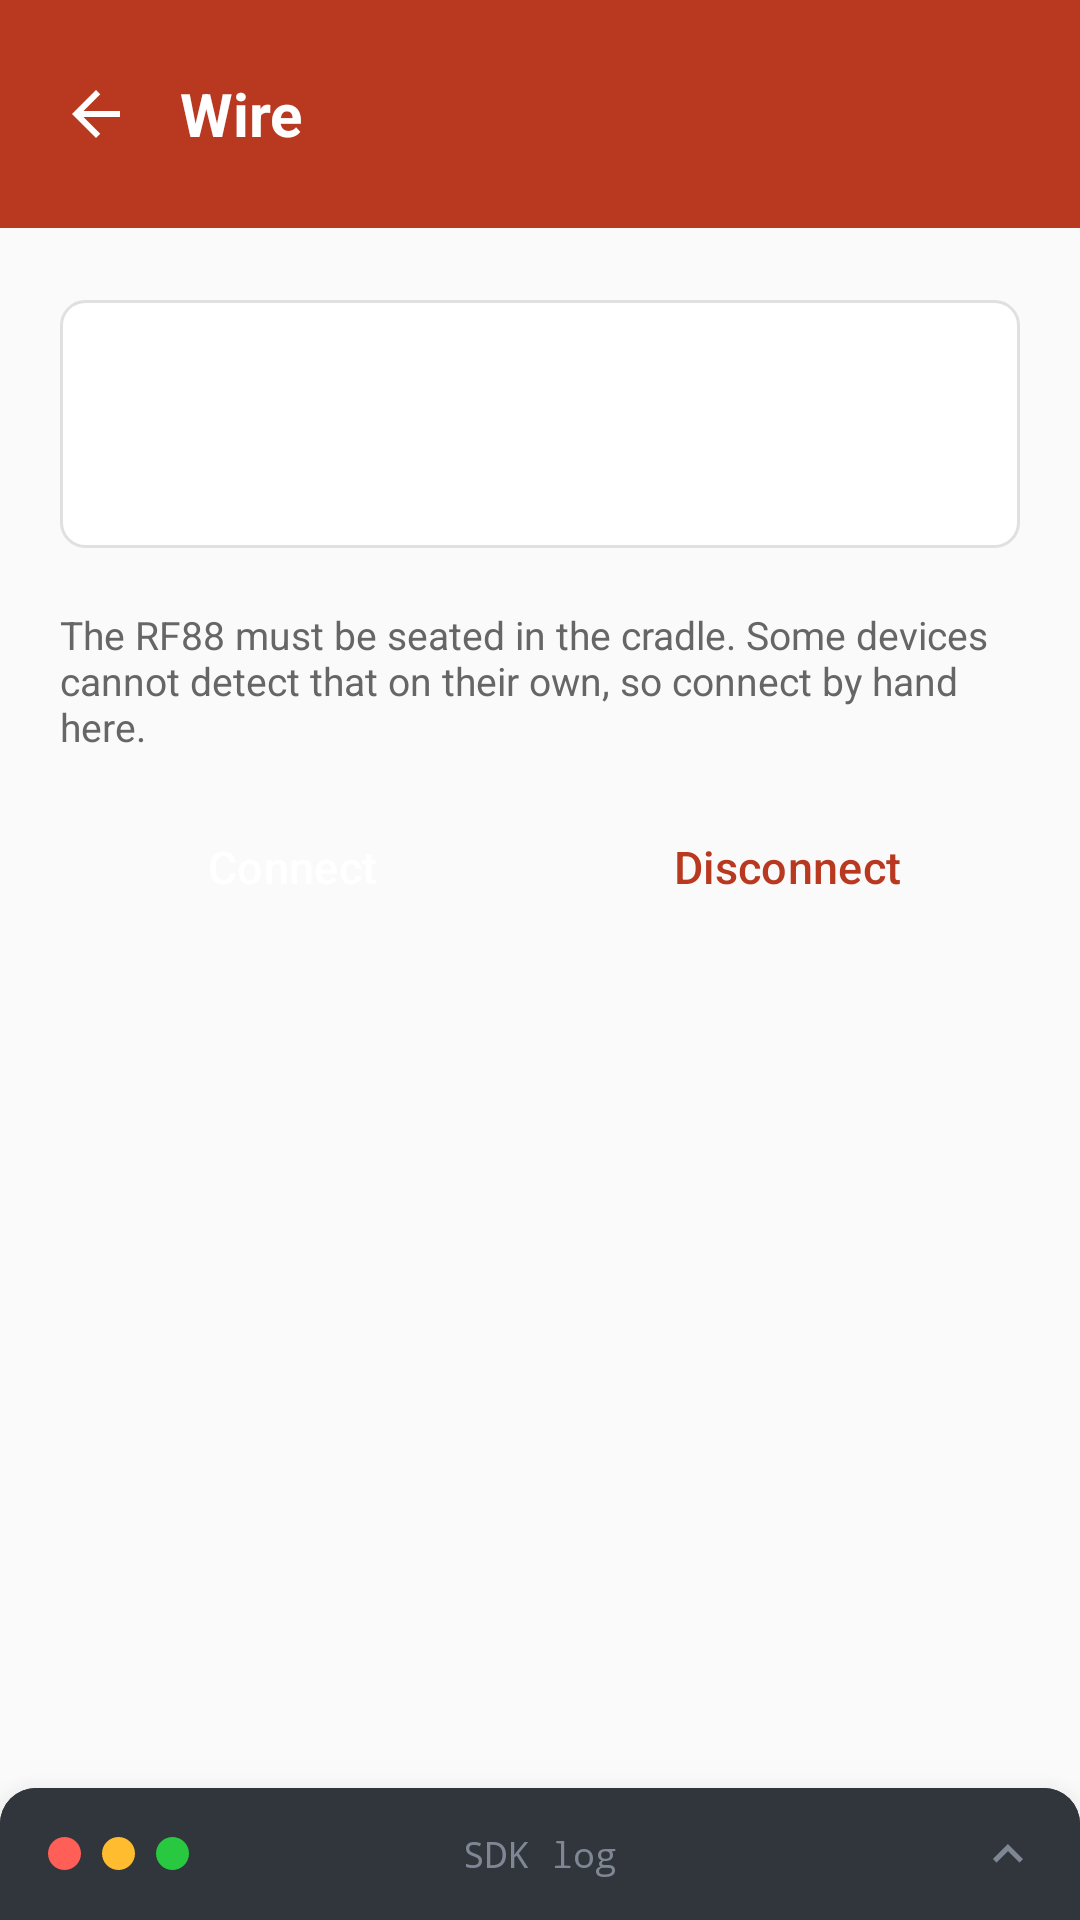

Where icons sit on this 1080×1920 app screen, as detection(x1, y1, x2, y2):
Back: detection(72, 90, 120, 138)
